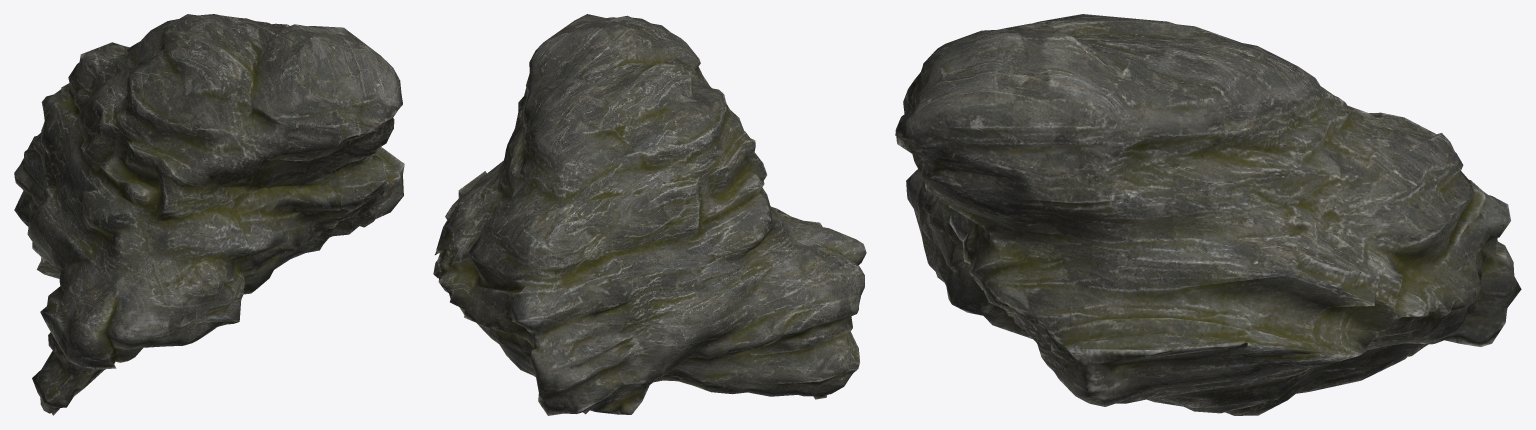
Rendered from SM_Rock_G.fbx.
The picture shows the model from 3 angles, left to right: view 1: azimuth 30°, elevation 25°; view 2: azimuth 150°, elevation 25°; view 3: azimuth 270°, elevation 25°; orthographic projection. The views are drawn at different scales.
Visible parts, largest first — view 1: SM_Rock_G_LOD0; view 2: SM_Rock_G_LOD0; view 3: SM_Rock_G_LOD0.
Part boxes in pixels (x1=…): SM_Rock_G_LOD0: x1=14, y1=14, x2=404, y2=415; SM_Rock_G_LOD0: x1=433, y1=14, x2=866, y2=415; SM_Rock_G_LOD0: x1=895, y1=14, x2=1521, y2=415.
Bounding box in the file's own units: 7354 × 7570 × 6109.
